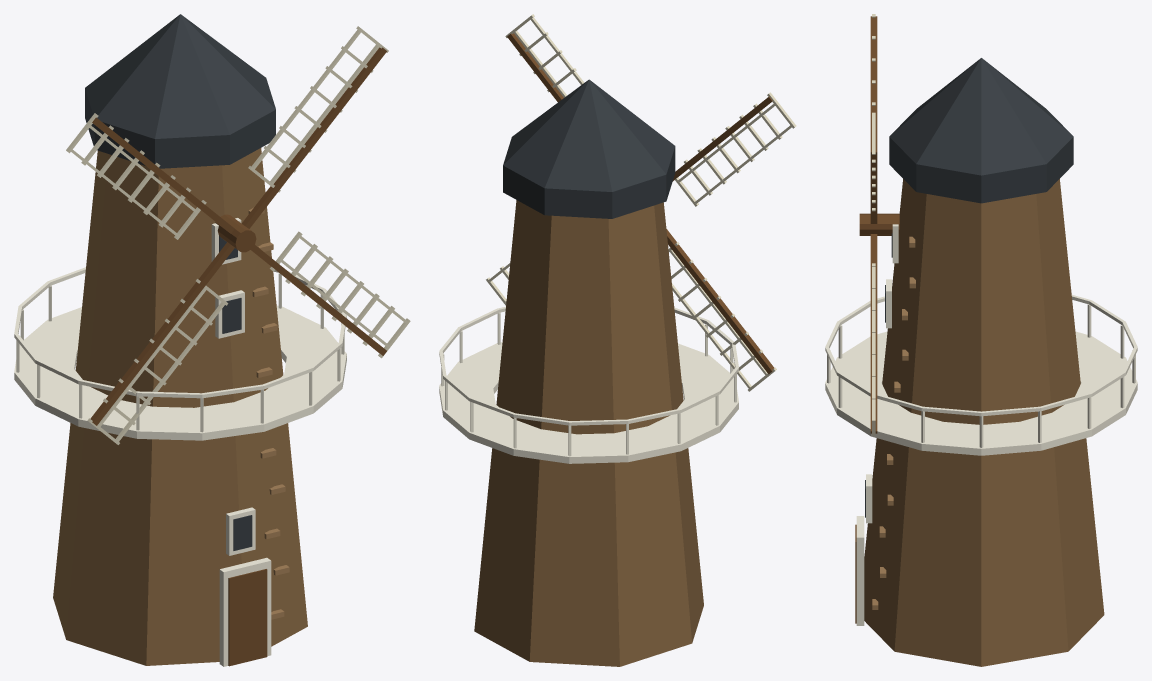
Rendered from windmill.glb.
3 renders of one model, left to right at view 1: azimuth 30°, elevation 25°; view 2: azimuth 150°, elevation 25°; view 3: azimuth 270°, elevation 25°, orthographic. The views are drawn at different scales.
Visible parts, largest first — view 1: body, rotor; view 2: body, rotor; view 3: body, rotor.
Boxes of the visible parts, left/top/right/bottom form: body: left=14, top=14, right=346, bottom=666; rotor: left=66, top=26, right=410, bottom=444; body: left=439, top=79, right=738, bottom=666; rotor: left=486, top=14, right=796, bottom=391; body: left=825, top=58, right=1137, bottom=666; rotor: left=859, top=14, right=899, bottom=435.
Bounding box in the file's own units: 7.2 × 12 × 6.1.
